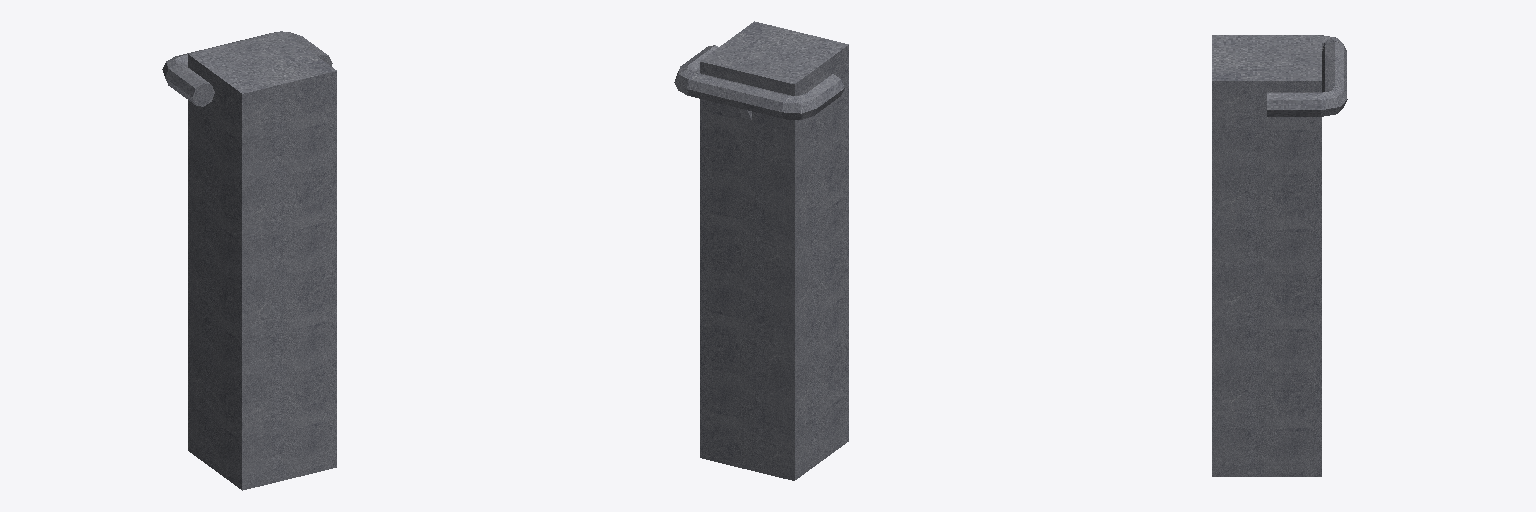
3 renders of one model, left to right at view 1: azimuth 30°, elevation 25°; view 2: azimuth 150°, elevation 25°; view 3: azimuth 270°, elevation 25°, orthographic.
Parts seen in each view (by area): view 1: pCube1 group1, group1 pCylinder3; view 2: pCube1 group1, group1 pCylinder2, group1 pCylinder3, group1 pCylinder4; view 3: pCube1 group1, group1 pCylinder4, group1 pCylinder2.
Part boxes in pixels (x1,y1,x2,y2): pCube1 group1: (188, 31, 336, 490); group1 pCylinder3: (162, 56, 214, 106); pCube1 group1: (700, 21, 848, 480); group1 pCylinder2: (687, 73, 790, 118); group1 pCylinder3: (782, 74, 844, 119); group1 pCylinder4: (674, 45, 718, 95); pCube1 group1: (1212, 35, 1321, 476); group1 pCylinder4: (1267, 87, 1347, 116); group1 pCylinder2: (1322, 41, 1346, 96).
Bounding box in the file's own units: 1.48 × 4 × 1.24.
1 materials, 1 textured.